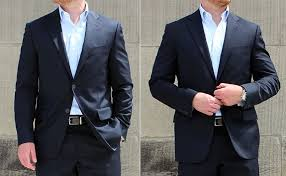F_M_suit jacket: (147, 3, 282, 167), (12, 5, 139, 159)
F_belt: (54, 112, 95, 130), (208, 117, 230, 130)
